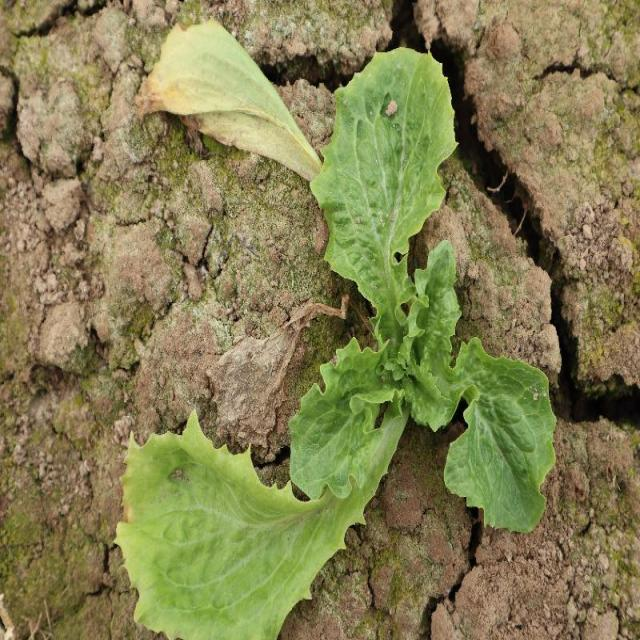crop: (113, 45, 564, 640)
